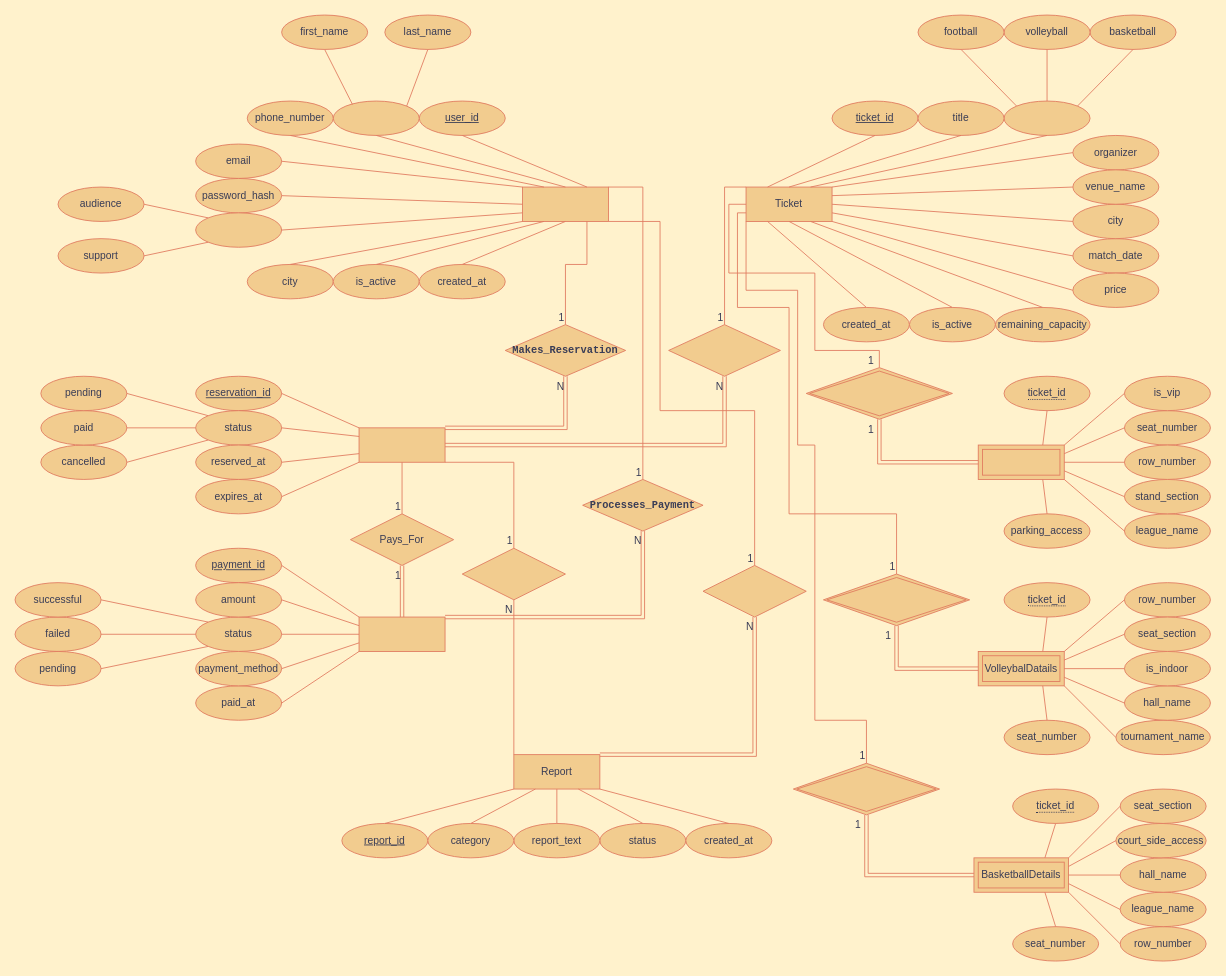
The diagram is 1226 pixels wide and 976 high, and some of its shapes have lost their labels. Each missing label, with the box of its shape:
FootballDetails: (977, 444, 1064, 479)
full_name: (332, 100, 419, 135)
Has_ Basketball _Details: (792, 762, 940, 815)
Has_Football_Details: (805, 367, 952, 419)
Has_Volleyball_Details: (823, 573, 970, 626)
Includes_Ticket: (668, 324, 780, 376)
Payment: (358, 616, 445, 651)
Refers_To: (461, 547, 565, 600)
Reservation: (358, 427, 445, 462)
role: (195, 212, 282, 247)
sport_type: (1003, 100, 1090, 135)
Submits_Report: (702, 565, 806, 617)
User: (522, 186, 608, 221)
